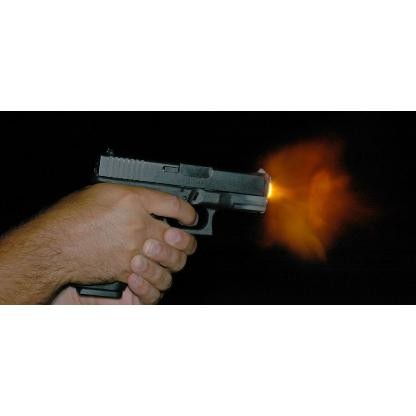gun: (75, 149, 269, 299)
